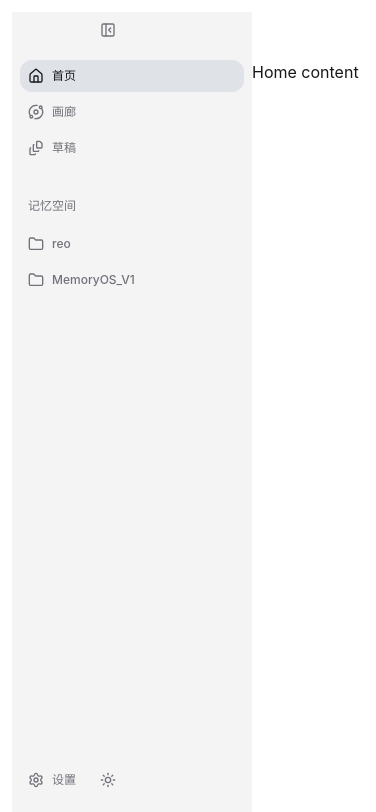
Test: AppShell › anchors the panel right edge and expands left when collapsed
This screenshot has width=376, height=812.
Click the button named "隐藏侧边栏" at (108, 30), box [92, 14, 124, 46]
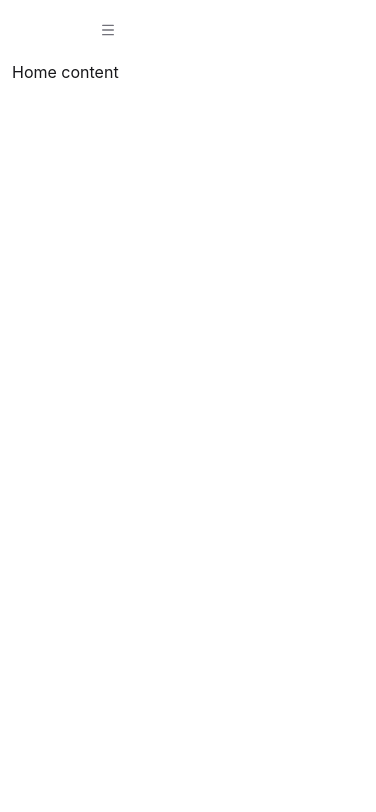
Now the button named "显示侧边栏" is shown, box [92, 14, 124, 46]
